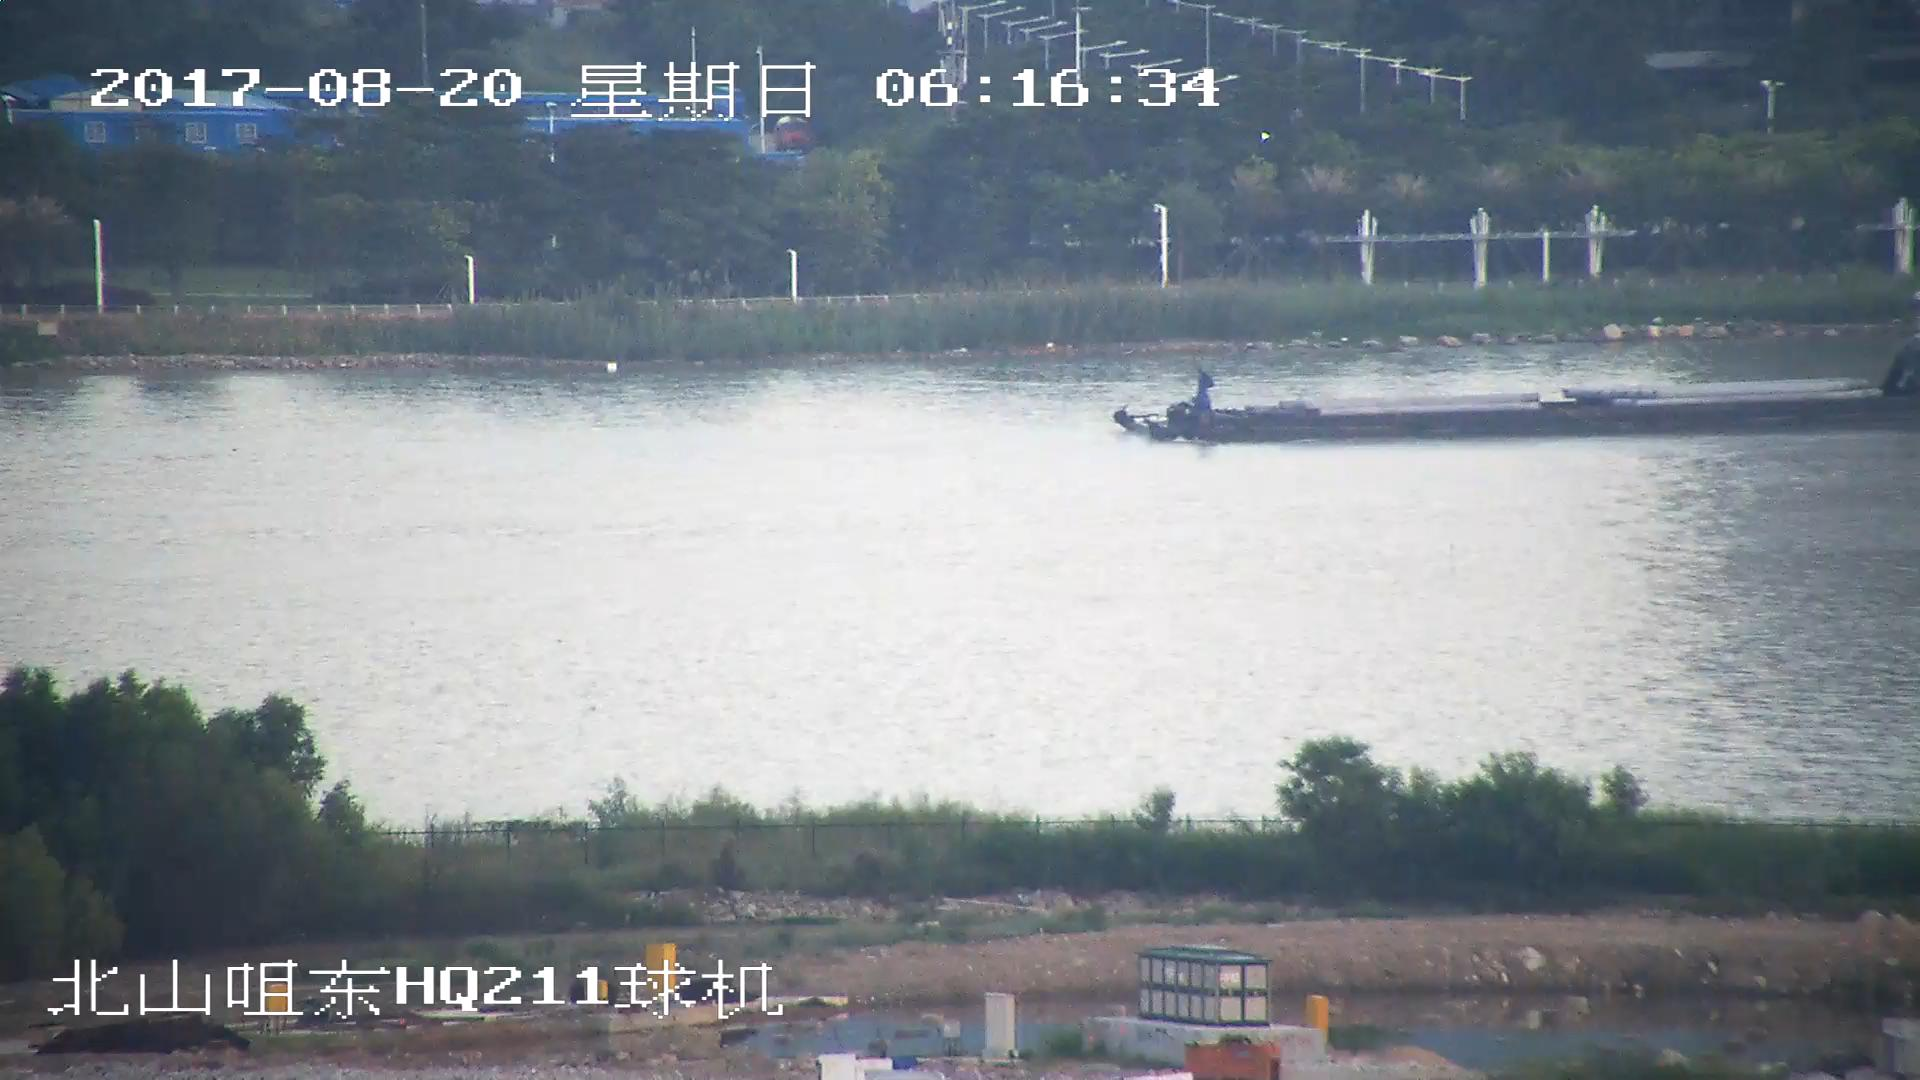bulk cargo carrier: (1120, 343, 1920, 446)
